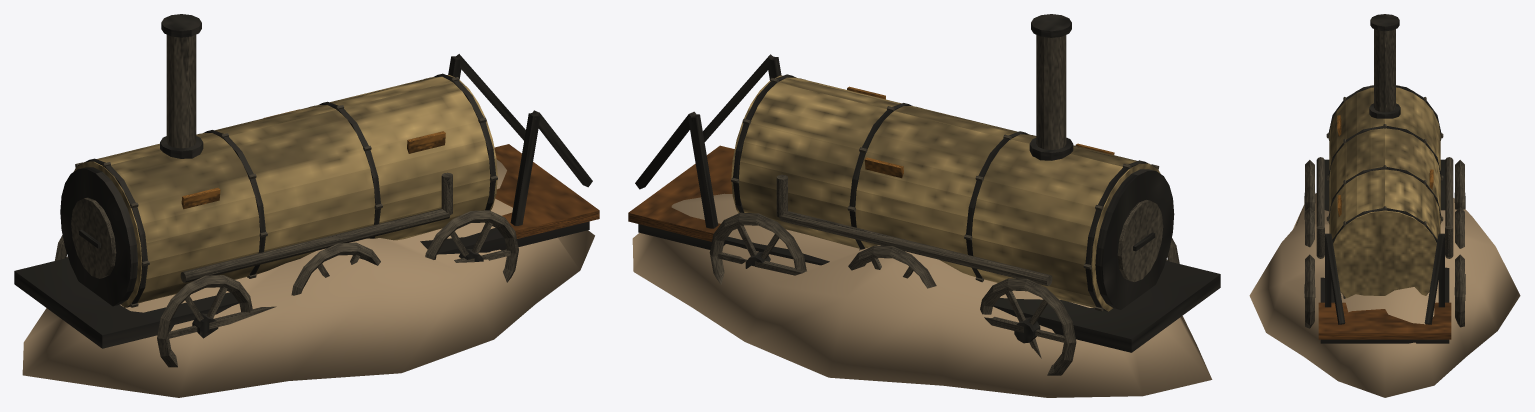
The model's file is half-buried-sleeper.glb.
3 views of the same model, side by side, from view 1: azimuth 30°, elevation 25°; view 2: azimuth 150°, elevation 25°; view 3: azimuth 270°, elevation 25° (orthographic). The views are drawn at different scales.
Visible parts, largest first — view 1: half-buried-sleeper; view 2: half-buried-sleeper; view 3: half-buried-sleeper.
Part boxes in pixels (x1,y1,x2,y2): half-buried-sleeper: (14, 14, 599, 397); half-buried-sleeper: (628, 14, 1220, 397); half-buried-sleeper: (1249, 14, 1520, 397).
Bounding box in the file's own units: 9.8 × 5.14 × 5.49.
2 materials, 1 textured.
